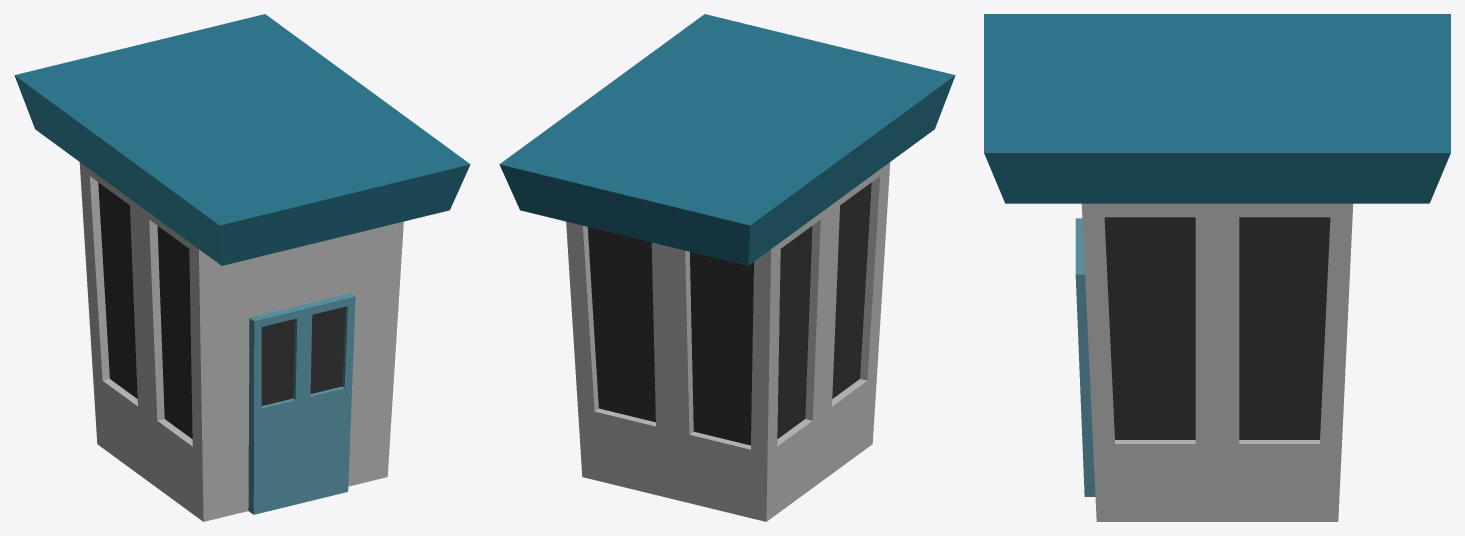
Rendered from booth_01.fbx.
3 renders of one model, left to right at view 1: azimuth 30°, elevation 25°; view 2: azimuth 150°, elevation 25°; view 3: azimuth 270°, elevation 25°, orthographic. The views are drawn at different scales.
Visible parts, largest first — view 1: booth_01; view 2: booth_01; view 3: booth_01.
Boxes of the visible parts, bbox=[...] form: booth_01: bbox=[14, 14, 470, 521]; booth_01: bbox=[499, 14, 955, 521]; booth_01: bbox=[984, 14, 1450, 521].
Size of the model in its own units: 3.15 by 4.09 by 4.46.
